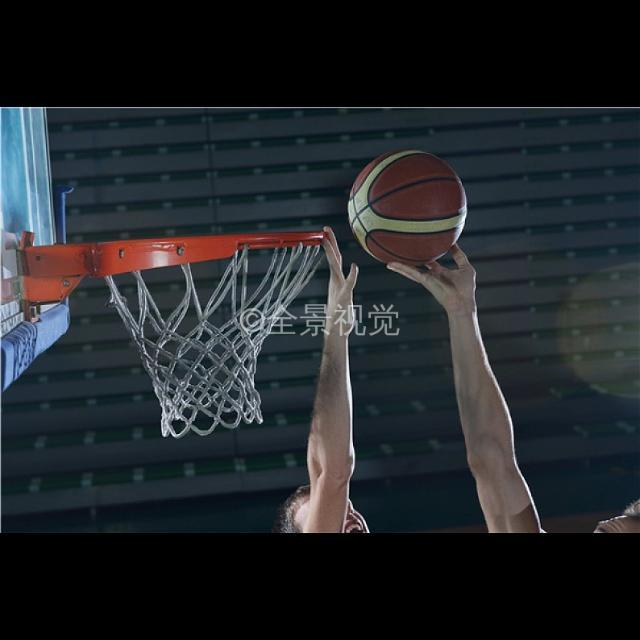basketball: (349, 150, 467, 266)
rim: (92, 234, 328, 438)
